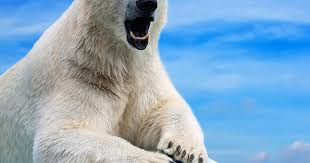PolarBear: (0, 0, 216, 160)
